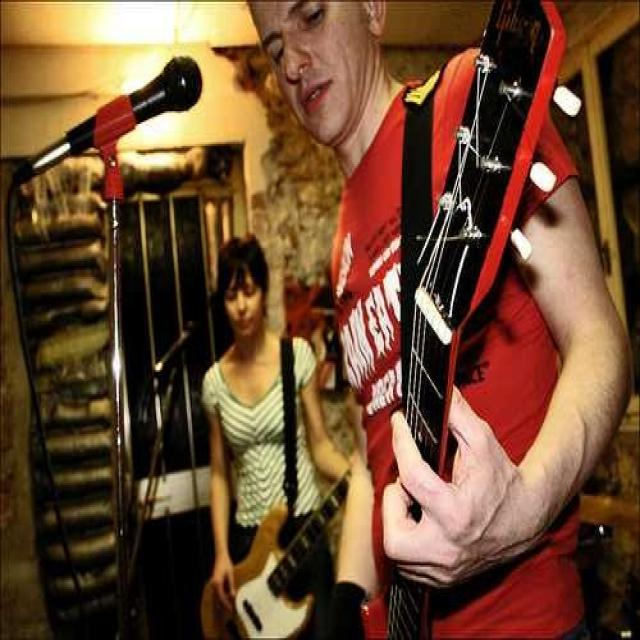microphone: (19, 56, 201, 183), (153, 322, 198, 376)
